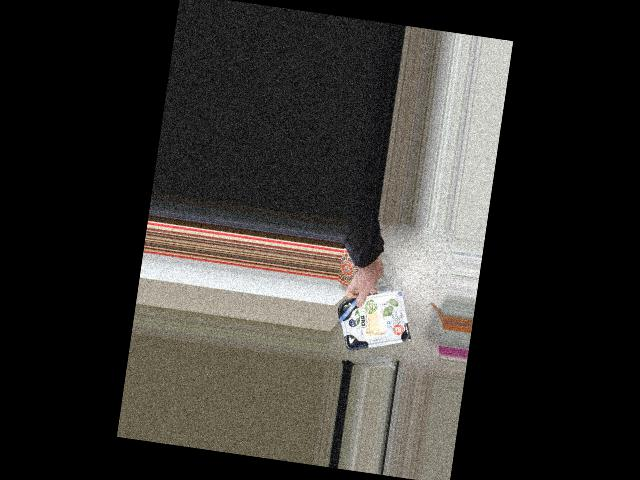cheese: (340, 293, 407, 348)
